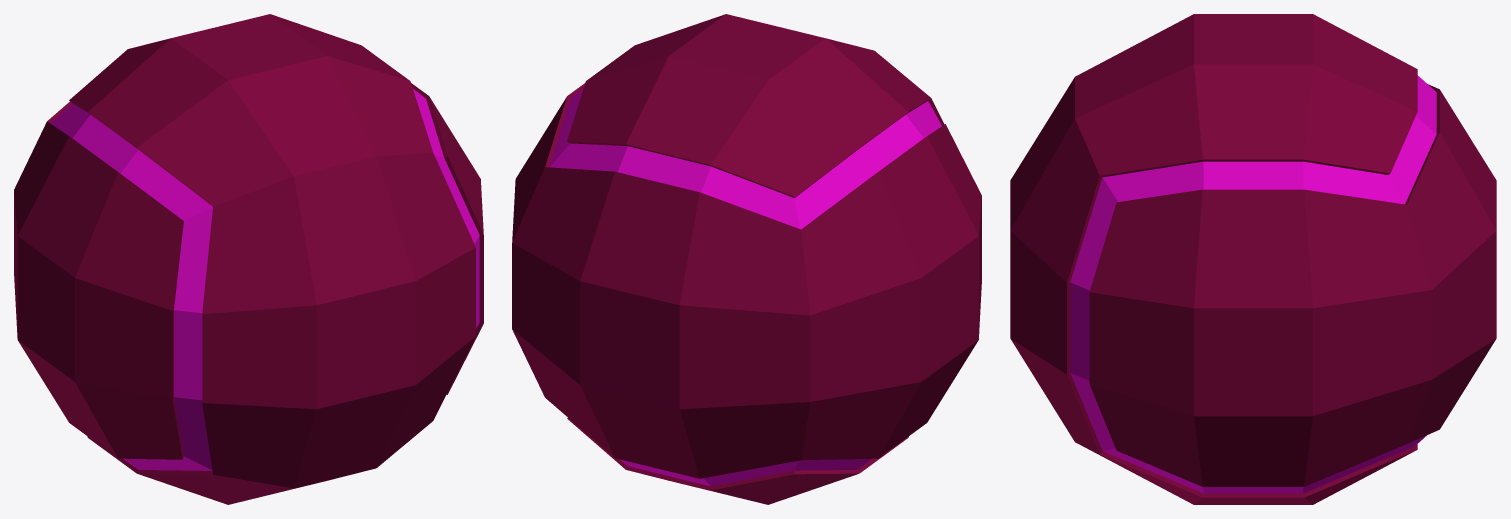
File: TennisBall_01.fbx
3 renders of one model, left to right at view 1: azimuth 30°, elevation 25°; view 2: azimuth 150°, elevation 25°; view 3: azimuth 270°, elevation 25°, orthographic. The views are drawn at different scales.
Visible parts, largest first — view 1: TennisBall_01; view 2: TennisBall_01; view 3: TennisBall_01.
Boxes of the visible parts, x1,y1,x2,y2 form: TennisBall_01: (14,14,483,504); TennisBall_01: (512,14,981,504); TennisBall_01: (1010,14,1496,504).
Size of the model in its own units: 4.75 by 4.75 by 4.75.
